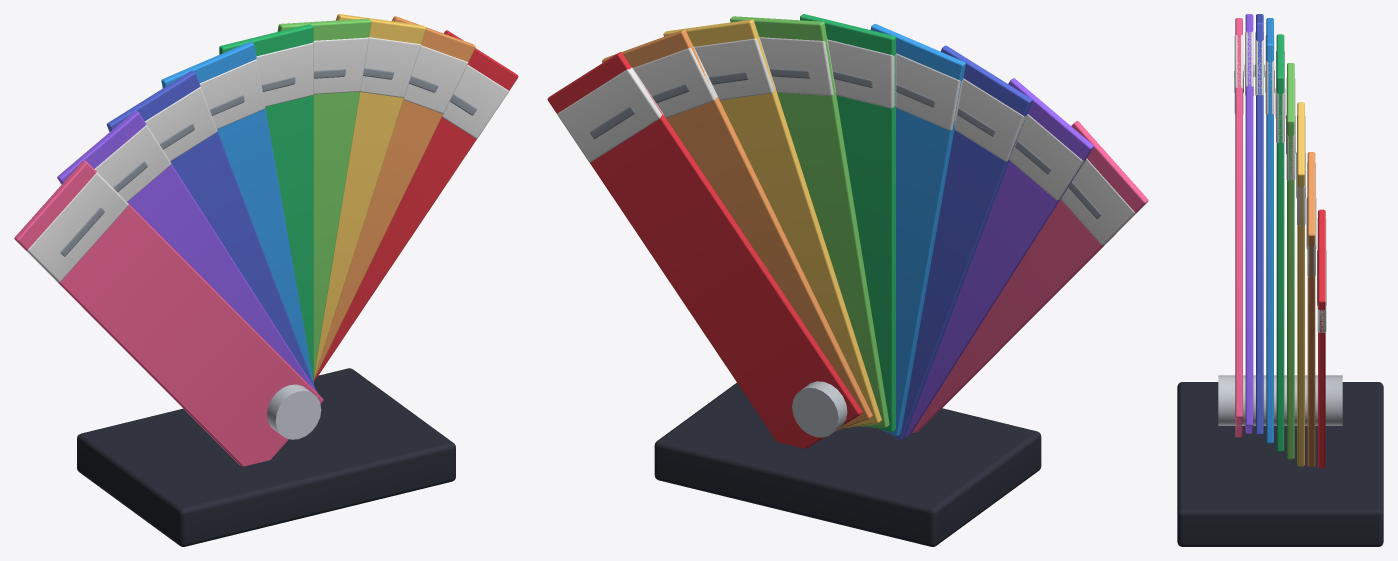
Rendered from colour-fan.glb.
3 renders of one model, left to right at view 1: azimuth 30°, elevation 25°; view 2: azimuth 150°, elevation 25°; view 3: azimuth 270°, elevation 25°, orthographic. The views are drawn at different scales.
Visible parts, largest first — view 1: colour-fan-solid, blade-9-rotor-solid, blade-8-rotor-solid, blade-7-rotor-solid, blade-6-rotor-solid, blade-5-rotor-solid, blade-4-rotor-solid, blade-3-rotor-solid, blade-2-rotor-solid, blade-1-rotor-solid, colour-fan-metal; view 2: blade-1-rotor-solid, colour-fan-solid, blade-2-rotor-solid, blade-3-rotor-solid, blade-4-rotor-solid, blade-5-rotor-solid, blade-6-rotor-solid, blade-7-rotor-solid, blade-8-rotor-solid, blade-9-rotor-solid, colour-fan-metal; view 3: colour-fan-solid, blade-5-rotor-solid, blade-8-rotor-solid, blade-6-rotor-solid, blade-9-rotor-solid, blade-7-rotor-solid, blade-4-rotor-solid, colour-fan-metal, blade-3-rotor-solid, blade-2-rotor-solid, blade-1-rotor-solid.
Part boxes in pixels (x1=…): colour-fan-solid: x1=77, y1=368, x2=455, y2=546; blade-9-rotor-solid: x1=14, y1=160, x2=323, y2=466; blade-8-rotor-solid: x1=57, y1=110, x2=322, y2=403; blade-7-rotor-solid: x1=106, y1=70, x2=320, y2=404; blade-6-rotor-solid: x1=161, y1=41, x2=313, y2=383; blade-5-rotor-solid: x1=219, y1=24, x2=313, y2=380; blade-4-rotor-solid: x1=277, y1=18, x2=371, y2=378; blade-3-rotor-solid: x1=313, y1=14, x2=425, y2=379; blade-2-rotor-solid: x1=313, y1=16, x2=475, y2=380; blade-1-rotor-solid: x1=313, y1=30, x2=518, y2=381; colour-fan-metal: x1=267, y1=384, x2=321, y2=439; blade-1-rotor-solid: x1=547, y1=52, x2=862, y2=448; colour-fan-solid: x1=654, y1=383, x2=1041, y2=546; blade-2-rotor-solid: x1=602, y1=29, x2=872, y2=431; blade-3-rotor-solid: x1=663, y1=19, x2=881, y2=427; blade-4-rotor-solid: x1=730, y1=16, x2=889, y2=427; blade-5-rotor-solid: x1=800, y1=14, x2=896, y2=432; blade-6-rotor-solid: x1=870, y1=24, x2=965, y2=436; blade-7-rotor-solid: x1=891, y1=45, x2=1032, y2=439; blade-8-rotor-solid: x1=905, y1=78, x2=1093, y2=436; blade-9-rotor-solid: x1=912, y1=121, x2=1148, y2=433; colour-fan-metal: x1=792, y1=381, x2=847, y2=437; colour-fan-solid: x1=1177, y1=382, x2=1383, y2=546; blade-5-rotor-solid: x1=1275, y1=34, x2=1285, y2=451; blade-8-rotor-solid: x1=1244, y1=14, x2=1254, y2=433; blade-6-rotor-solid: x1=1265, y1=18, x2=1274, y2=443; blade-9-rotor-solid: x1=1234, y1=18, x2=1243, y2=437; blade-7-rotor-solid: x1=1255, y1=14, x2=1264, y2=434; blade-4-rotor-solid: x1=1286, y1=63, x2=1295, y2=459; colour-fan-metal: x1=1218, y1=375, x2=1342, y2=425; blade-3-rotor-solid: x1=1296, y1=102, x2=1305, y2=466; blade-2-rotor-solid: x1=1306, y1=152, x2=1316, y2=466; blade-1-rotor-solid: x1=1317, y1=209, x2=1326, y2=468.
Bounding box in the file's own units: 0.4711 × 0.3666 × 0.1595.
